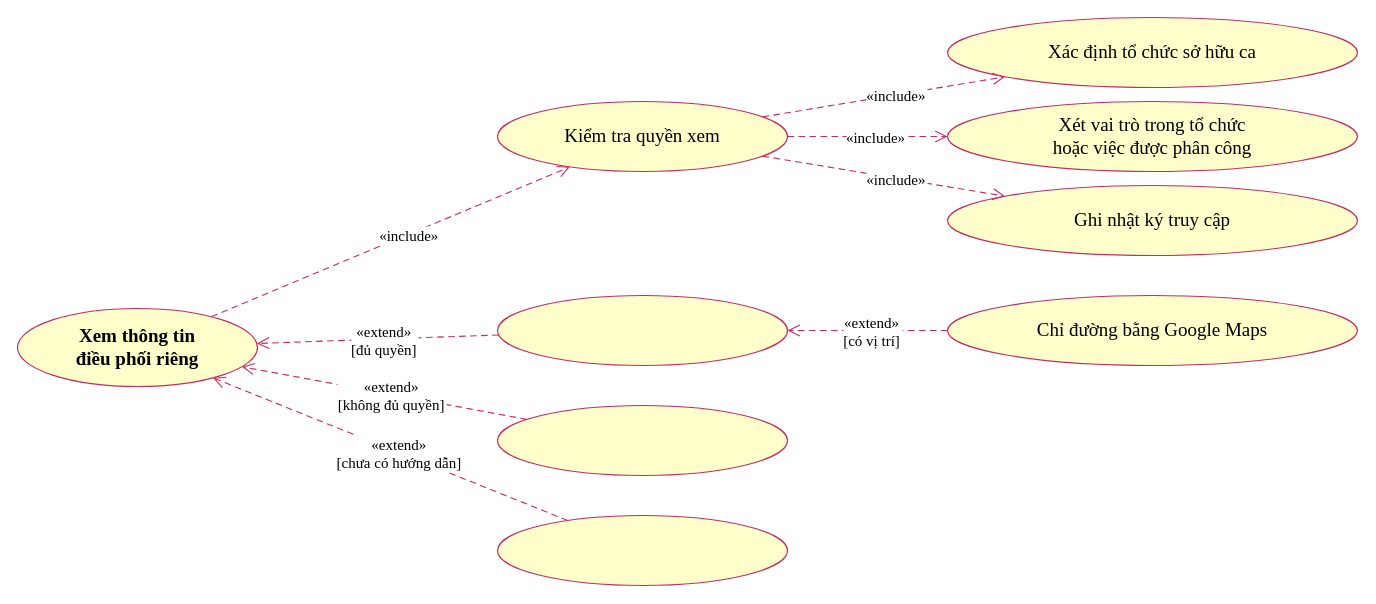
Some shapes in this 1376 by 604 pixel diagram are drawn without their labels. Here are the shapes that lost their labels. From the top down, the box of each, then its label:
(496, 294, 788, 366): Hiển thị hướng dẫn, địa chỉ và vị trí
(496, 404, 788, 476): Thông báo từ chối
(496, 514, 788, 586): Thông báo chưa có nội dung
